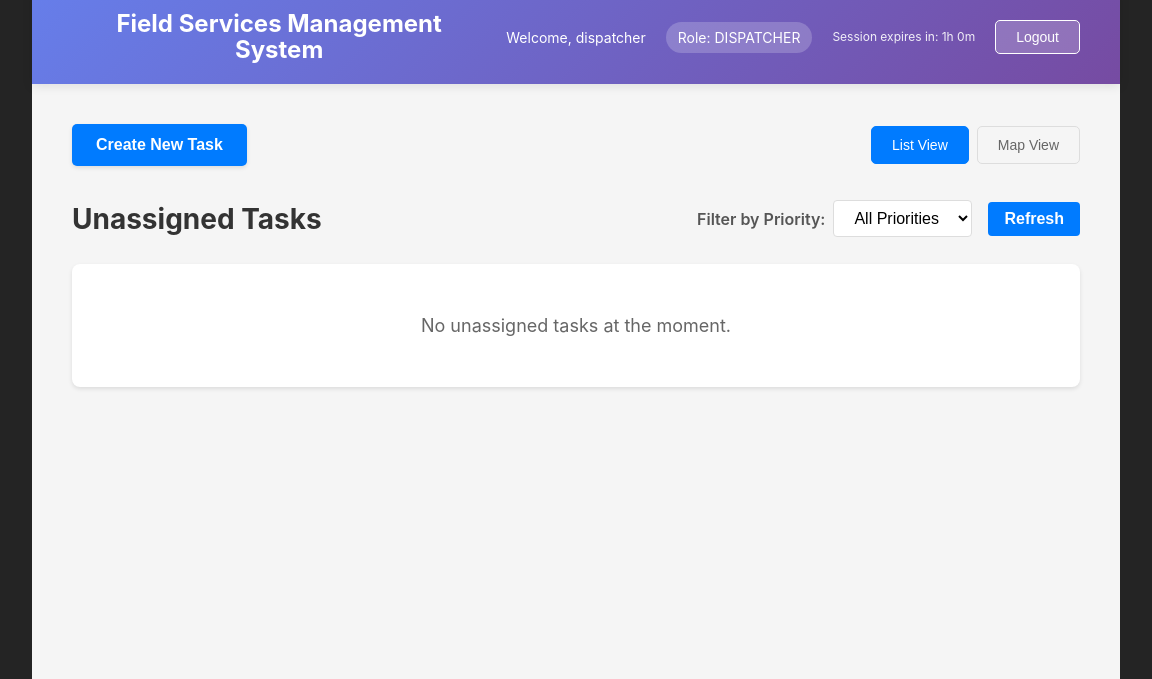
Scenario: Dashboard Component › should cancel task form
Click the button "Create New Task" at (159, 145), box [72,124,247,166]
(page scrolled)
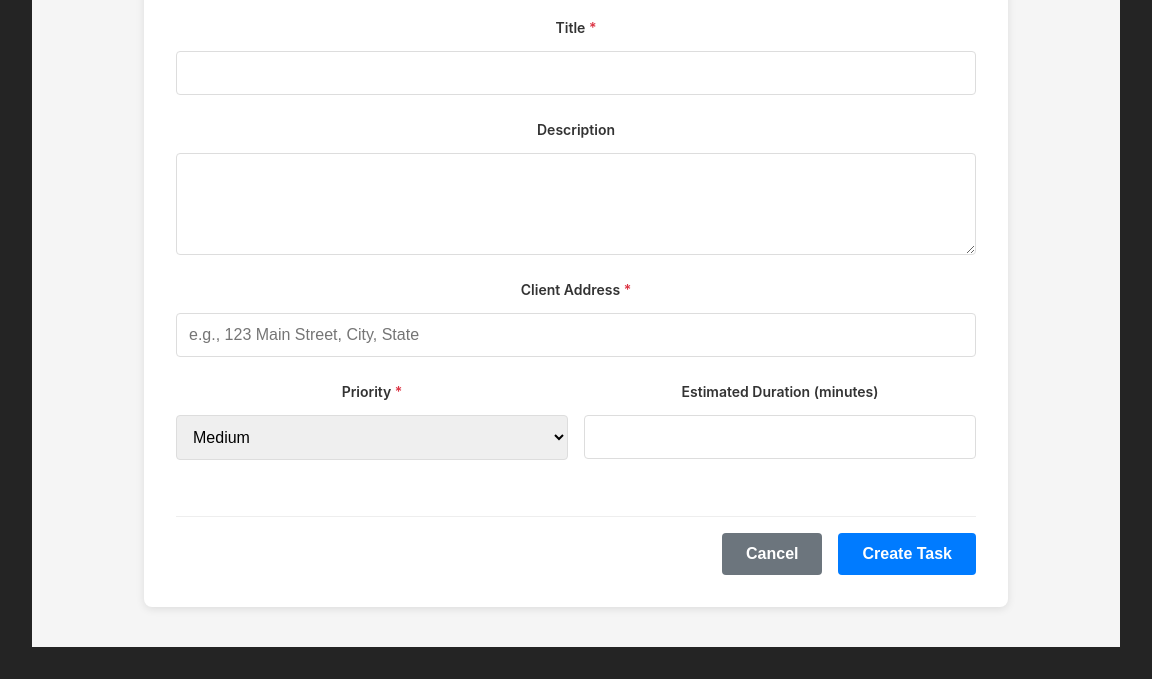
Click the button "Cancel" at (772, 554), box [722,533,822,575]
(page scrolled)
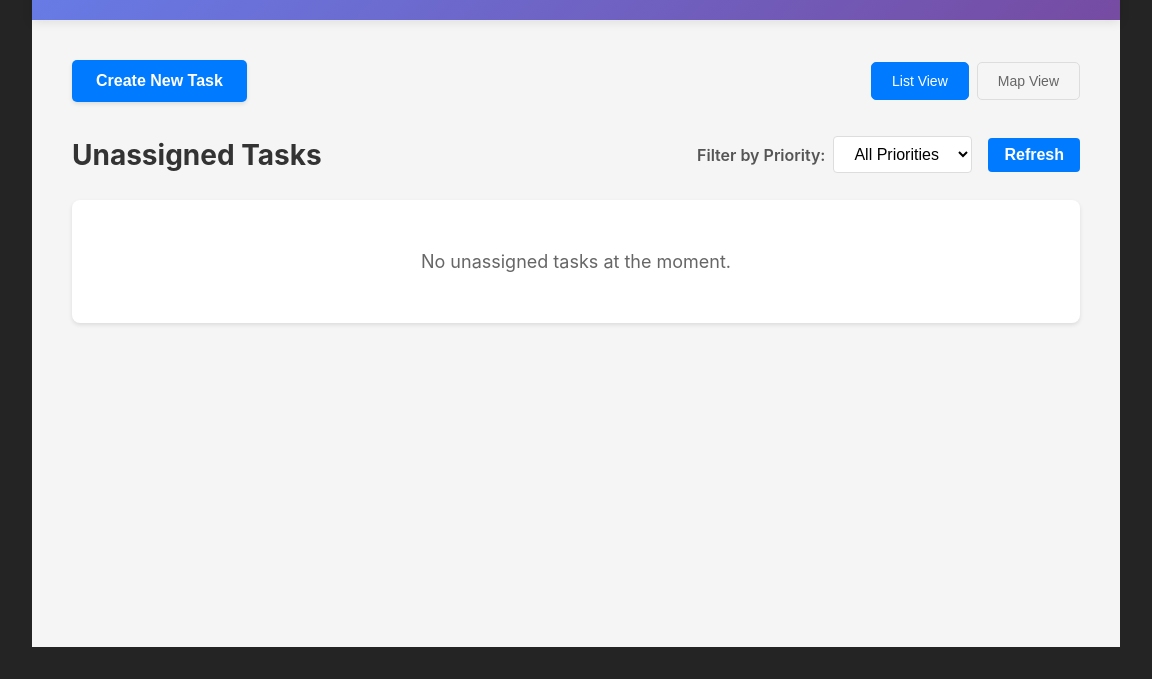
Now the heading "Unassigned Tasks" is shown, box [72,134,322,176]
